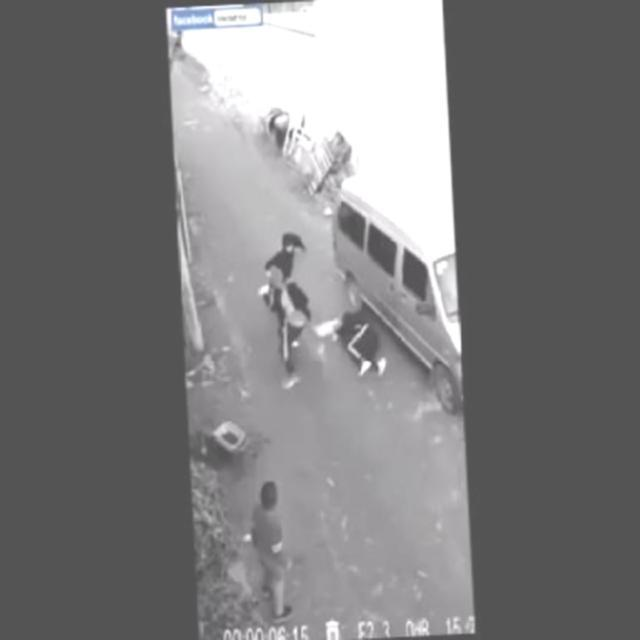fight: (248, 225, 322, 392)
non-fight: (239, 476, 307, 622)
